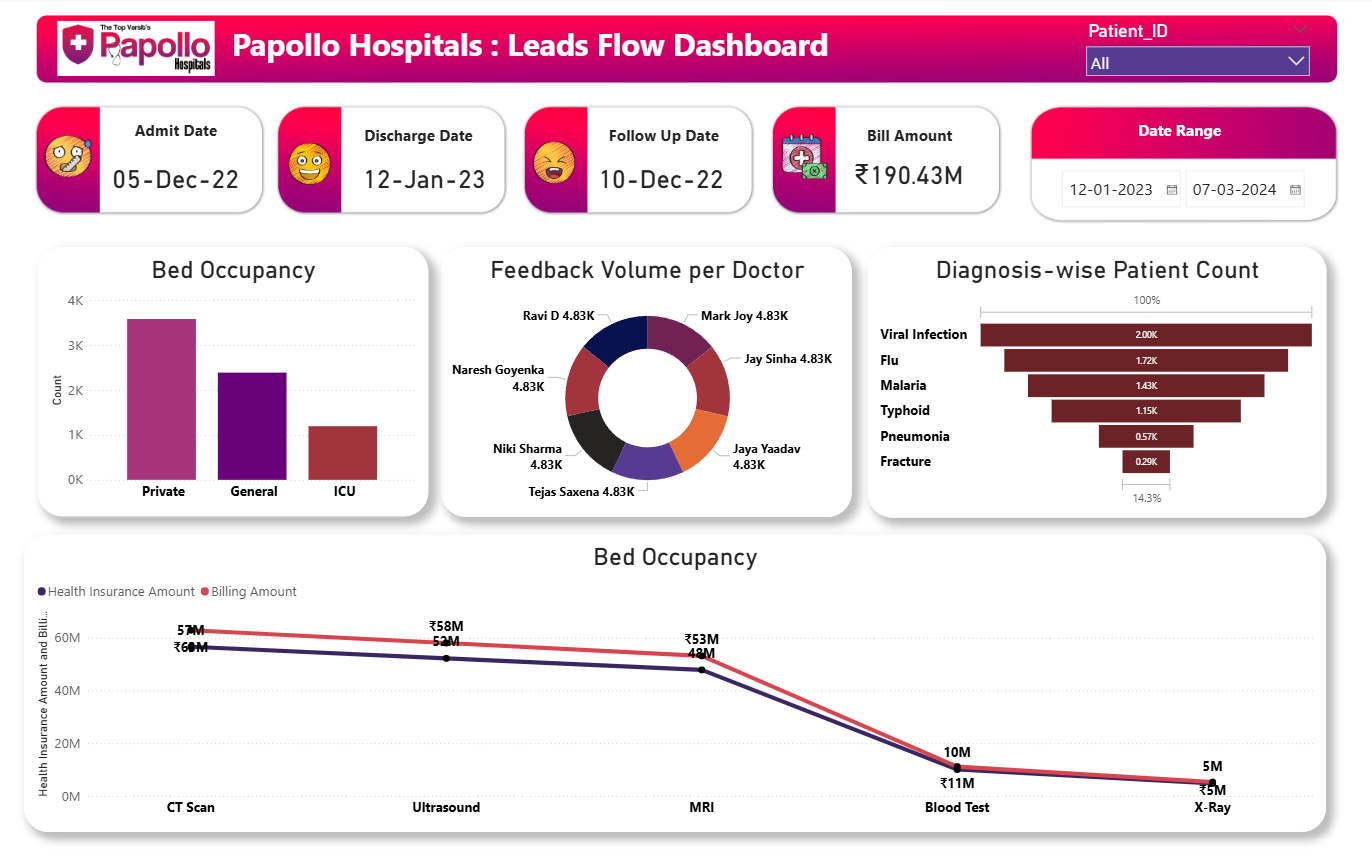

This screenshot's page, from the dashboard's own definition file:
{"tool":"powerbi","page":{"name":"Dashboard","canvas":[1680,1050],"ordinal":0},"visuals":[{"type":"textbox","box":[280,27.1,755.7,74.3],"z":0},{"type":"image","box":[2636.7,100,623.3,150],"z":1000},{"type":"slicer","fields":{"Values":["Sheet1.Patient_ID"]},"box":[2400,373.3,793.3,420],"z":2000},{"type":"card","fields":{"Values":["Min(Sheet1.Admit_Date)"]},"box":[437.6,198.8,162.9,42.8],"z":3000},{"type":"card","fields":{"Values":["Min(Sheet1.Discharge_Date)"]},"box":[129.8,198.8,172.6,42.8],"z":4000},{"type":"card","fields":{"Values":["Min(Sheet1.Followup Date)"]},"box":[724.3,198.6,167.1,42.9],"z":5000},{"type":"textbox","box":[152.9,145.7,127.1,57.1],"z":6000},{"type":"textbox","box":[437.1,151.4,151.4,37.1],"z":7000},{"type":"textbox","box":[732.9,151.4,158.6,37.1],"z":8000},{"type":"textbox","box":[1035.7,151.4,151.4,37.1],"z":9000},{"type":"card","fields":{"Values":["Sum(Sheet1.Billing Amount)"]},"box":[1031.4,194.3,158.6,42.9],"z":10000},{"type":"image","box":[50,157.1,68.6,74.3],"z":11000},{"type":"image","box":[348.6,172.9,62.9,62.9],"z":12000},{"type":"image","box":[640,171.4,77.1,62.9],"z":13000},{"type":"image","box":[951.4,158.6,65.7,71.4],"z":14000},{"type":"columnChart","title":"Bed Occupancy","fields":{"Category":["Sheet1.Bed_Occupancy"],"Y":["CountNonNull(Sheet1.Bed_Occupancy)"]},"box":[47.1,305.7,477.1,328.6],"z":15000},{"type":"donutChart","title":"Feedback Volume per Doctor","fields":{"Category":["Sheet1.Doctor"],"Y":["Sum(Sheet1.Feedback)"]},"box":[540.2,305.2,501,329.5],"z":16000},{"type":"funnel","title":"Diagnosis-wise Patient Count","fields":{"Category":["Sheet1.Diagnosis"],"Y":["CountNonNull(Sheet1.Diagnosis)"]},"box":[1060,305.7,560,330],"z":17000},{"type":"image","box":[30,24.3,274.3,77.1],"z":18000},{"type":"lineChart","title":"Bed Occupancy","fields":{"Y":["Sum(Sheet1.Health Insurance Amount)","Sum(Sheet1.Billing Amount)"],"Category":["Sheet1.Test"]},"box":[31.1,656.3,1589.5,363.3],"z":19000},{"type":"slicer","fields":{"Values":["Sheet1.Admit_Date"]},"box":[1284.3,201.2,360.6,68.9],"z":20000},{"type":"slicer","fields":{"Values":["Sheet1.Patient_ID"]},"box":[1317.1,24.3,292.9,82.9],"z":21000},{"type":"textbox","box":[1365.7,145.7,151.4,37.1],"z":22000}]}

Visuals, with their boxes in screenshot pixels (x1, y1, x2, y2), scaled from the page's 1680x1050 canvas onto the 1372x856 screenshot:
textbox: 229/22/846/83
card - Min(Sheet1.Admit_Date): 357/162/490/197
card - Min(Sheet1.Discharge_Date): 106/162/247/197
card - Min(Sheet1.Followup Date): 592/162/728/197
textbox: 125/119/229/165
textbox: 357/123/481/154
textbox: 599/123/728/154
textbox: 846/123/969/154
card - Sum(Sheet1.Billing Amount): 842/158/972/193
image: 41/128/97/189
image: 285/141/336/192
image: 523/140/586/191
image: 777/129/831/188
"Bed Occupancy" columnChart: 38/249/428/517
"Feedback Volume per Doctor" donutChart: 441/249/850/517
"Diagnosis-wise Patient Count" funnel: 866/249/1323/518
image: 24/20/249/83
"Bed Occupancy" lineChart: 25/535/1323/831
slicer - Sheet1.Admit_Date: 1049/164/1343/220
slicer - Sheet1.Patient_ID: 1076/20/1315/87
textbox: 1115/119/1239/149
